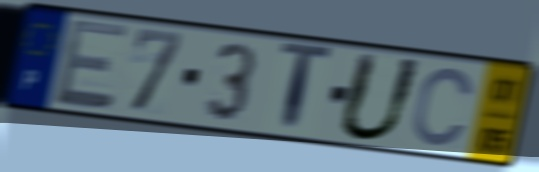3: (203, 40, 258, 123)
7: (129, 25, 188, 117)
C: (409, 64, 478, 150)
E: (51, 15, 132, 112)
T: (277, 39, 336, 139)
U: (334, 49, 427, 146)
